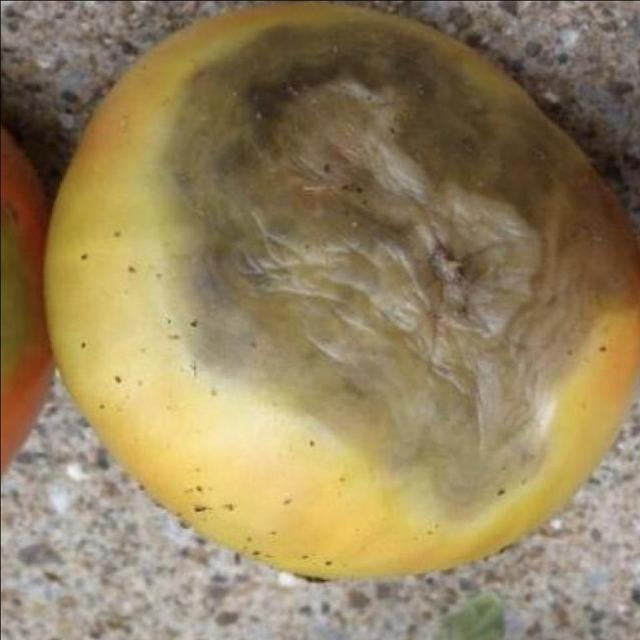Blossom End Rot Fruit: (111, 12, 413, 341)
